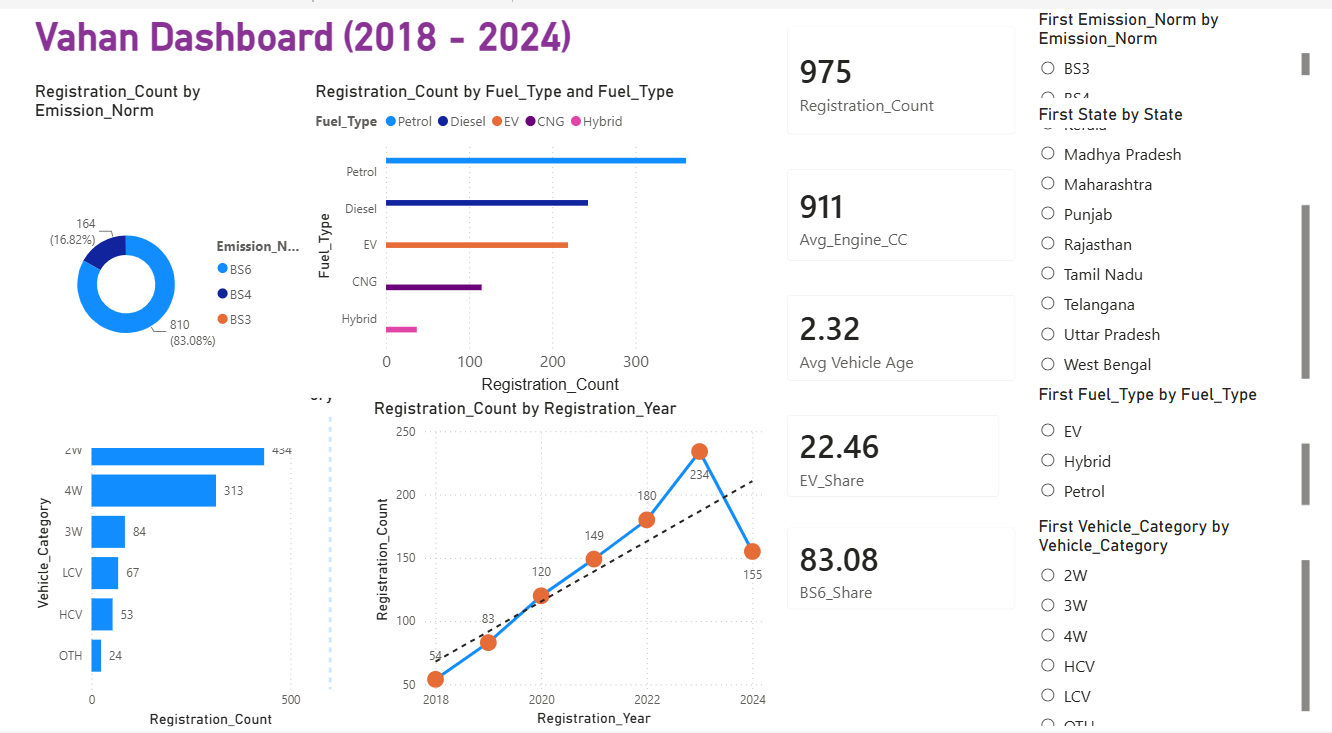

This screenshot's page, from the dashboard's own definition file:
{"tool":"powerbi","page":{"name":"Vahan Dashboard","canvas":[1280,720],"ordinal":0},"visuals":[{"type":"listSlicer","fields":{"Values":["India_VAHAN_Dataset 3.State"]},"box":[1000,94,280,280],"z":0},{"type":"listSlicer","fields":{"Values":["India_VAHAN_Dataset 3.Vehicle_Category"]},"box":[1000,506,280,214],"z":1000},{"type":"listSlicer","fields":{"Values":["India_VAHAN_Dataset 3.Emission_Norm"]},"box":[1000,0,280,94],"z":2000},{"type":"listSlicer","fields":{"Values":["India_VAHAN_Dataset 3.Fuel_Type"]},"box":[1000,374,280,126],"z":3000},{"type":"cardVisual","fields":{"Data":["India_VAHAN_Dataset 3.Registration_Count"]},"box":[738,0,262,142],"z":4000},{"type":"clusteredBarChart","fields":{"Category":["India_VAHAN_Dataset 3.Vehicle_Category"],"Y":["India_VAHAN_Dataset 3.Registration_Count"]},"box":[0,374,314,346],"z":5000},{"type":"donutChart","fields":{"Category":["India_VAHAN_Dataset 3.Emission_Norm"],"Y":["India_VAHAN_Dataset 3.Registration_Count"]},"box":[0,72,280,366],"z":6000},{"type":"clusteredBarChart","fields":{"Y":["India_VAHAN_Dataset 3.Registration_Count"],"Category":["India_VAHAN_Dataset 3.Fuel_Type"],"Series":["India_VAHAN_Dataset 3.Fuel_Type"]},"box":[280,72,420,316],"z":7000},{"type":"cardVisual","fields":{"Data":["India_VAHAN_Dataset 3.Avg_Engine_CC"]},"box":[738,142,262,126],"z":8000},{"type":"cardVisual","fields":{"Data":["India_VAHAN_Dataset 3.Avg Vehicle Age"]},"box":[738,268,262,120],"z":9000},{"type":"cardVisual","fields":{"Data":["India_VAHAN_Dataset 3.EV_Share"]},"box":[738,388,246,116],"z":10000},{"type":"cardVisual","fields":{"Data":["India_VAHAN_Dataset 3.BS6_Share"]},"box":[738,500,262,116],"z":11000},{"type":"lineChart","fields":{"Category":["Calender.Registration_Year"],"Y":["India_VAHAN_Dataset 3.Registration_Count"]},"box":[338,388,400,332],"z":12000},{"type":"actionButton","box":[0,0,100,40],"z":13000},{"type":"textbox","box":[0,0,626,72],"z":14000}]}

Visuals, with their boxes on the page's 1280x720 design canvas (x1, y1, x2, y2). These are canvas units, not pixel positions in the 1332x733 screenshot, which may show the page scaled, cropped or inside an application window:
listSlicer - India_VAHAN_Dataset 3.State: region(1000, 94, 1280, 374)
listSlicer - India_VAHAN_Dataset 3.Vehicle_Category: region(1000, 506, 1280, 720)
listSlicer - India_VAHAN_Dataset 3.Emission_Norm: region(1000, 0, 1280, 94)
listSlicer - India_VAHAN_Dataset 3.Fuel_Type: region(1000, 374, 1280, 500)
cardVisual - India_VAHAN_Dataset 3.Registration_Count: region(738, 0, 1000, 142)
clusteredBarChart - India_VAHAN_Dataset 3.Vehicle_Category x India_VAHAN_Dataset 3.Registration_Count: region(0, 374, 314, 720)
donutChart - India_VAHAN_Dataset 3.Emission_Norm x India_VAHAN_Dataset 3.Registration_Count: region(0, 72, 280, 438)
clusteredBarChart - India_VAHAN_Dataset 3.Registration_Count x India_VAHAN_Dataset 3.Fuel_Type: region(280, 72, 700, 388)
cardVisual - India_VAHAN_Dataset 3.Avg_Engine_CC: region(738, 142, 1000, 268)
cardVisual - India_VAHAN_Dataset 3.Avg Vehicle Age: region(738, 268, 1000, 388)
cardVisual - India_VAHAN_Dataset 3.EV_Share: region(738, 388, 984, 504)
cardVisual - India_VAHAN_Dataset 3.BS6_Share: region(738, 500, 1000, 616)
lineChart - Calender.Registration_Year x India_VAHAN_Dataset 3.Registration_Count: region(338, 388, 738, 720)
actionButton: region(0, 0, 100, 40)
textbox: region(0, 0, 626, 72)
